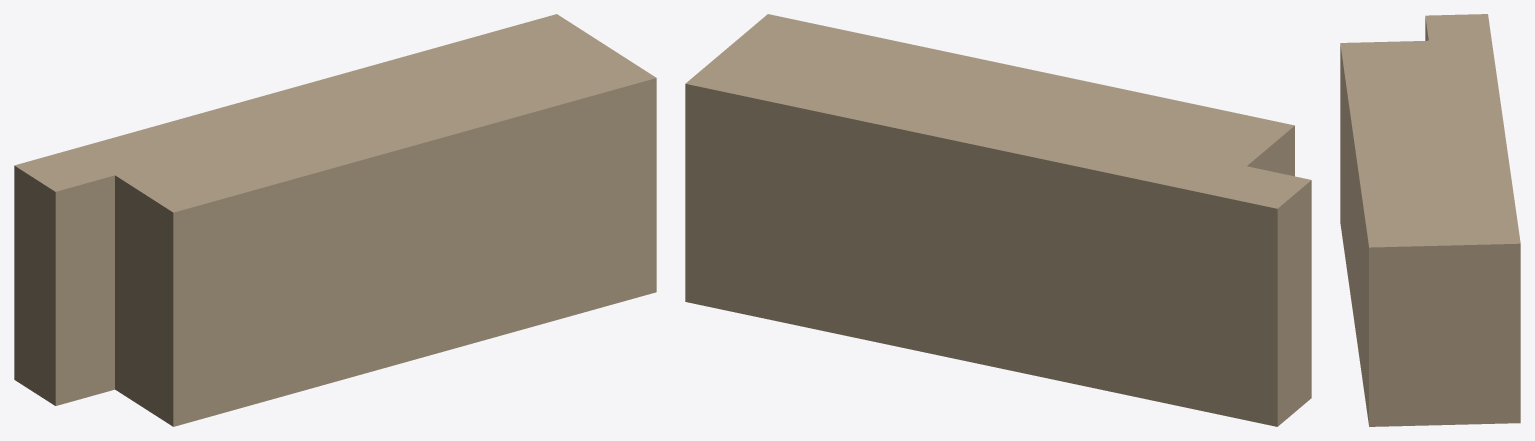
File: bld_106466747.dae
3 renders of one model, left to right at view 1: azimuth 30°, elevation 25°; view 2: azimuth 150°, elevation 25°; view 3: azimuth 270°, elevation 25°, orthographic. The views are drawn at different scales.
Parts seen in each view (by area): view 1: Pizza Supreme; view 2: Pizza Supreme; view 3: Pizza Supreme.
Part boxes in pixels (x1,y1,x2,y2): Pizza Supreme: (14,14,656,426); Pizza Supreme: (685,14,1311,426); Pizza Supreme: (1340,14,1520,426).
Bounding box in the file's own units: 22.33 × 7.29 × 8.
